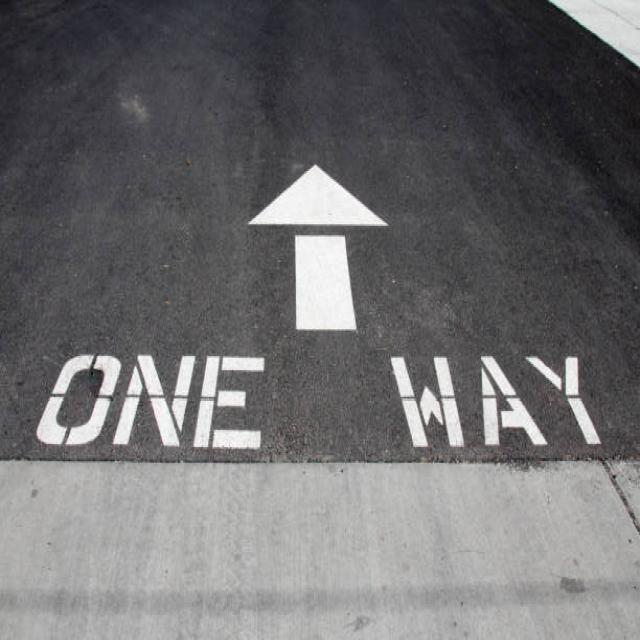road_oneway: (249, 165, 389, 332)
